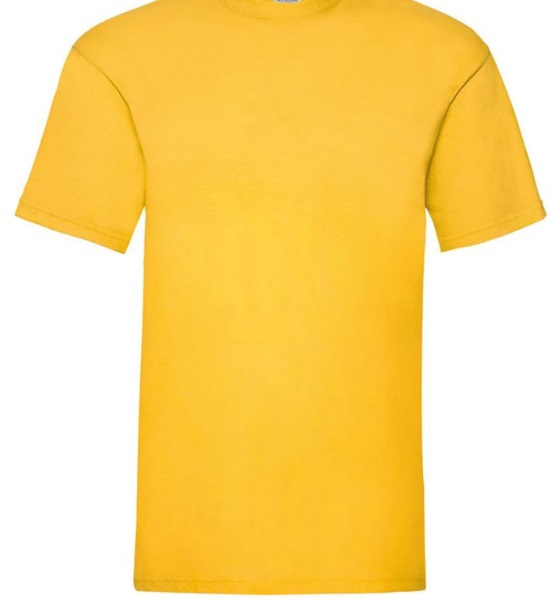Yellow: (22, 6, 547, 587)
